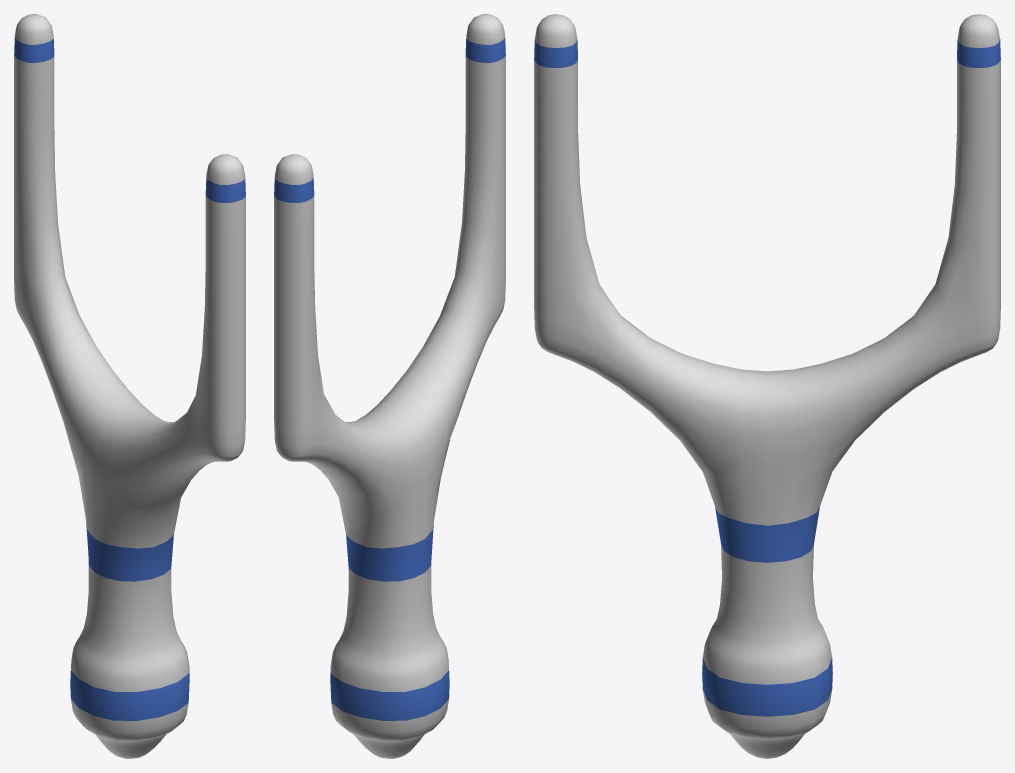
Rendered from SmallSlingShot.fbx.
3 renders of one model, left to right at view 1: azimuth 30°, elevation 25°; view 2: azimuth 150°, elevation 25°; view 3: azimuth 270°, elevation 25°, orthographic. The views are drawn at different scales.
Parts seen in each view (by area): view 1: SmallSlingShot; view 2: SmallSlingShot; view 3: SmallSlingShot.
Boxes of the visible parts, bbox=[...] form: SmallSlingShot: bbox=[14, 14, 245, 758]; SmallSlingShot: bbox=[274, 14, 505, 758]; SmallSlingShot: bbox=[534, 14, 1000, 758].
Size of the model in its own units: 1.39 by 8.69 by 4.97.
